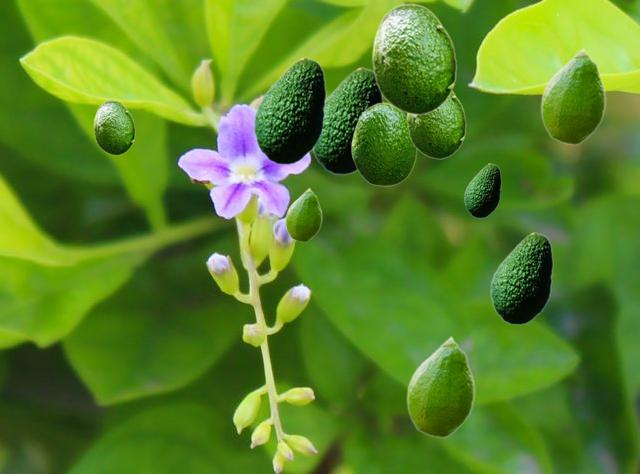avocado: (371, 3, 456, 114), (253, 57, 325, 164), (313, 67, 382, 174), (406, 335, 474, 437), (540, 47, 605, 144), (490, 232, 552, 324), (351, 102, 416, 185), (406, 90, 465, 158), (93, 100, 134, 154), (285, 187, 321, 241), (464, 163, 500, 217)
